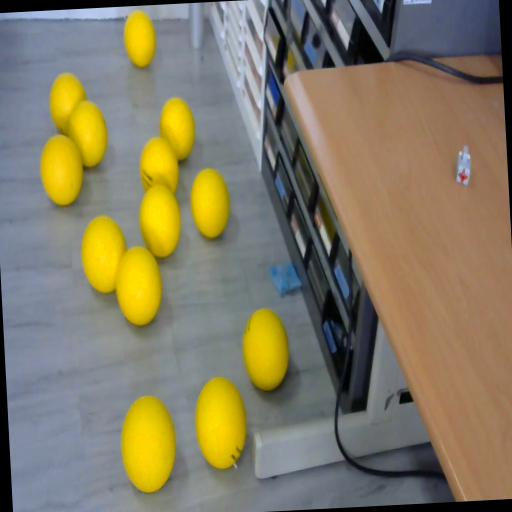FUEL: (118, 393, 178, 492), (192, 374, 249, 471), (240, 305, 291, 392), (112, 244, 164, 326), (78, 212, 128, 295), (38, 132, 86, 208), (137, 182, 183, 258), (188, 166, 232, 238), (48, 72, 89, 136), (158, 96, 196, 162), (122, 8, 158, 68)
